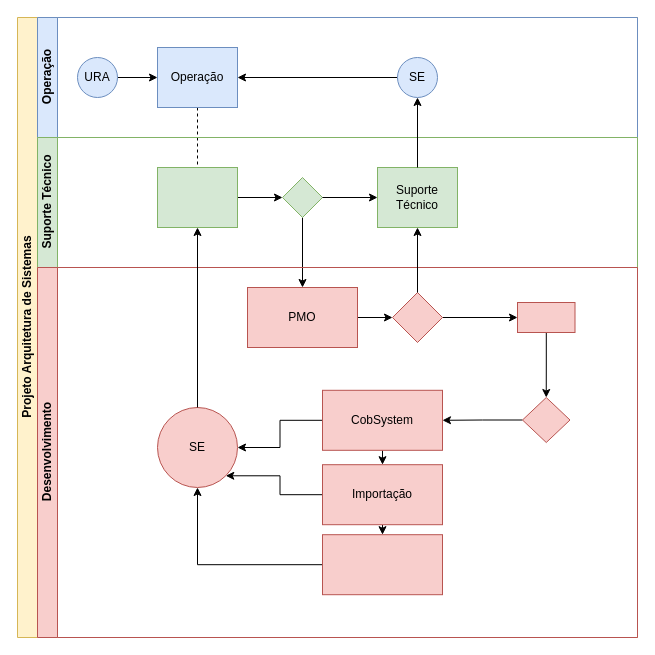
Image size: 655x655. Some labels were removed from this diagram. Here are the shapes that lost their labels. From the top down, the centre of each, then its label:
At point (197, 197): "SE / Chamado".
At point (302, 197): "CAT".
At point (417, 317): "Azure".
At point (545, 317): "Back Log".
At point (546, 419): "Scrum".
At point (382, 564): "Automatização".
